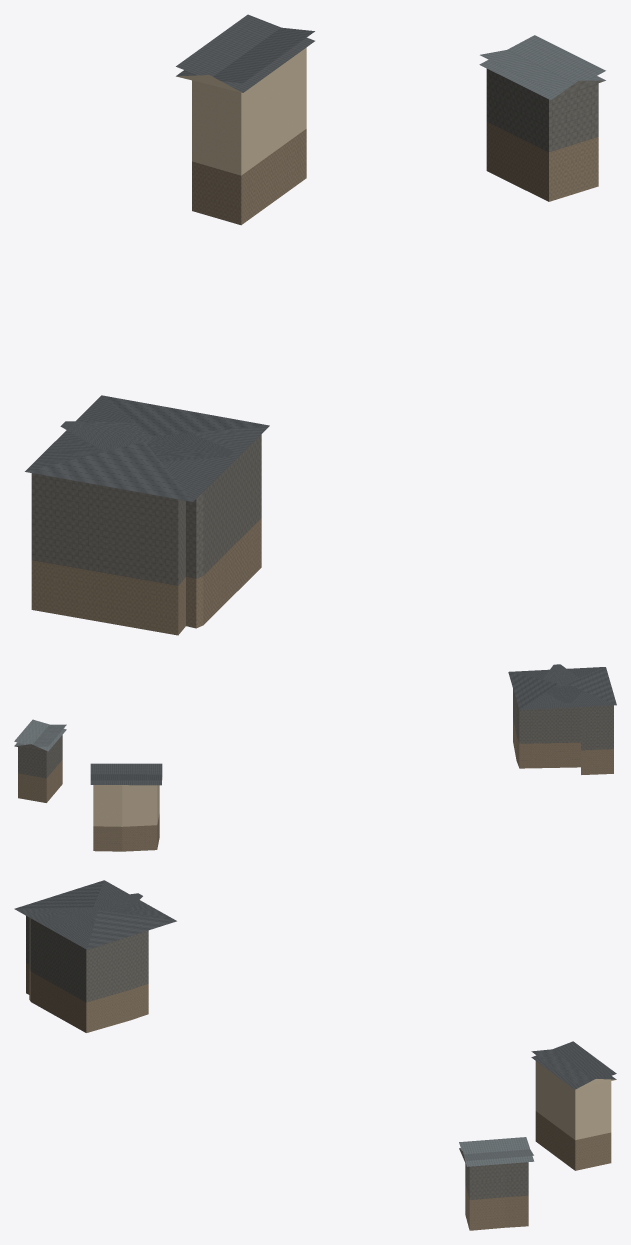
Rendered from bld_c21_31_376.gltf.
3 views of the same model, one above another, from view 1: azimuth 30°, elevation 25°; view 2: azimuth 150°, elevation 25°; view 3: azimuth 270°, elevation 25° (orthographic). The views are drawn at different scales.
Visible parts, largest first — view 1: bld_c21_31_376; view 2: bld_c21_31_376; view 3: bld_c21_31_376.
Boxes of the visible parts, x1,y1,x2,y2 form: bld_c21_31_376: [25, 14, 605, 635]; bld_c21_31_376: [14, 664, 616, 851]; bld_c21_31_376: [14, 880, 616, 1230].
Bounding box in the file's own units: 94.05 × 16.1 × 90.83.
7 materials, 7 textured.
